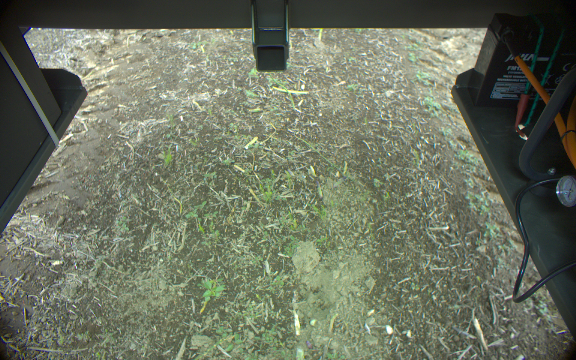aspa: (313, 179, 325, 205), (330, 174, 347, 188)
